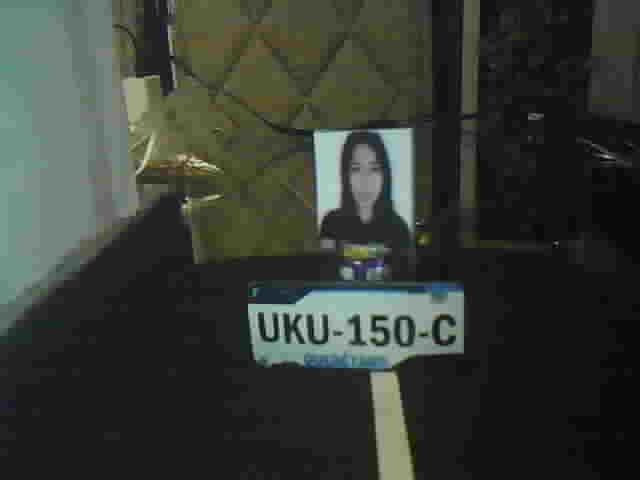PLACA: (246, 278, 467, 372)
ROSTRO: (317, 131, 412, 243)
